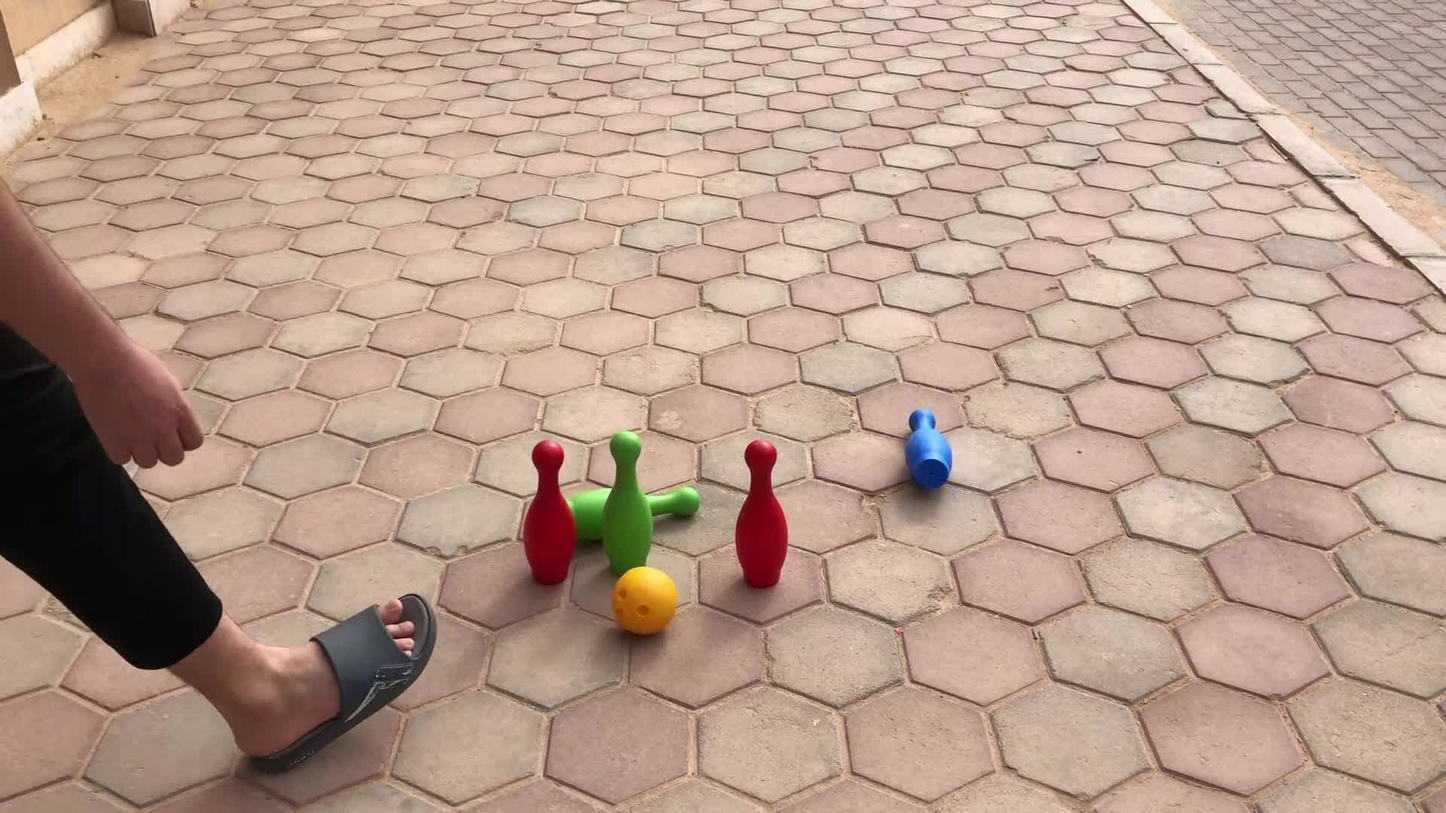bowling-pin: (523, 439, 575, 583), (737, 440, 787, 587), (603, 432, 652, 576), (907, 409, 955, 492), (566, 488, 611, 541)
